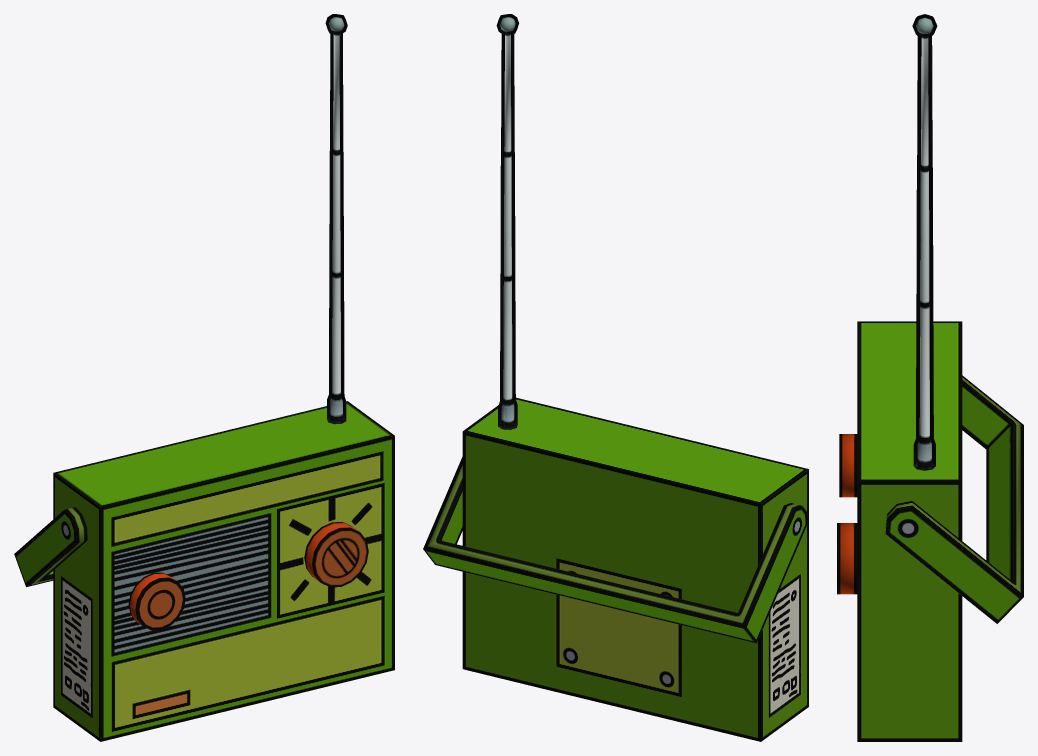
File: simpsons_radio.glb
3 views of the same model, side by side, from view 1: azimuth 30°, elevation 25°; view 2: azimuth 150°, elevation 25°; view 3: azimuth 270°, elevation 25° (orthographic). The views are drawn at different scales.
Parts seen in each view (by area): view 1: Radio, Antenna, Handle; view 2: Radio, Handle, Antenna; view 3: Radio, Handle, Antenna.
Boxes of the visible parts, box(x1,y1,x2,y2) form: Radio: box(53, 401, 394, 741); Antenna: box(325, 14, 347, 424); Handle: box(14, 507, 87, 587); Radio: box(462, 397, 808, 741); Handle: box(423, 457, 807, 643); Antenna: box(496, 14, 518, 429); Radio: box(837, 321, 962, 741); Handle: box(885, 375, 1023, 623); Antenna: box(912, 14, 937, 470).
Size of the model in its own units: 0.8358 by 1.61 by 0.3836.
Materials: 2 (1 with a texture image).
